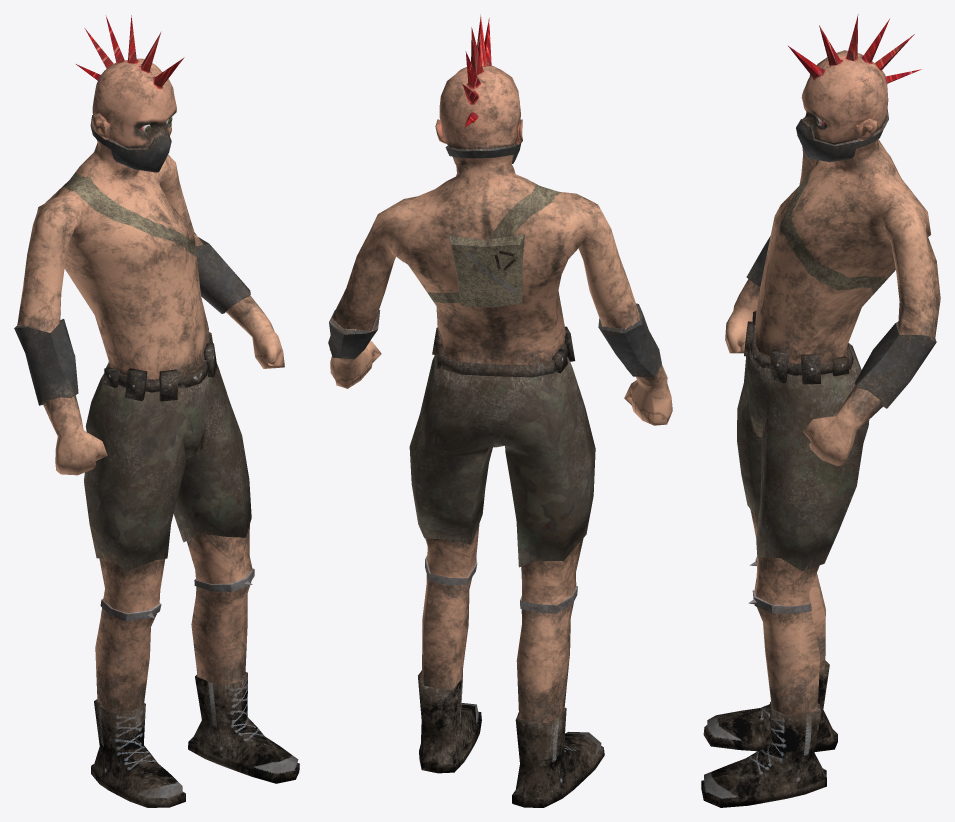
The model's file is Anim_recibirdanyo_1_npc2.0033.obj.
The picture shows the model from 3 angles, left to right: view 1: azimuth 30°, elevation 25°; view 2: azimuth 150°, elevation 25°; view 3: azimuth 270°, elevation 25°; orthographic projection. The views are drawn at different scales.
Visible parts, largest first — view 1: polySurface1; view 2: polySurface1; view 3: polySurface1.
Boxes of the visible parts, x1,y1,x2,y2 form: polySurface1: (14,15,299,807); polySurface1: (328,14,672,807); polySurface1: (701,14,940,807).
Bounding box in the file's own units: 3.99 × 10.06 × 2.91.
